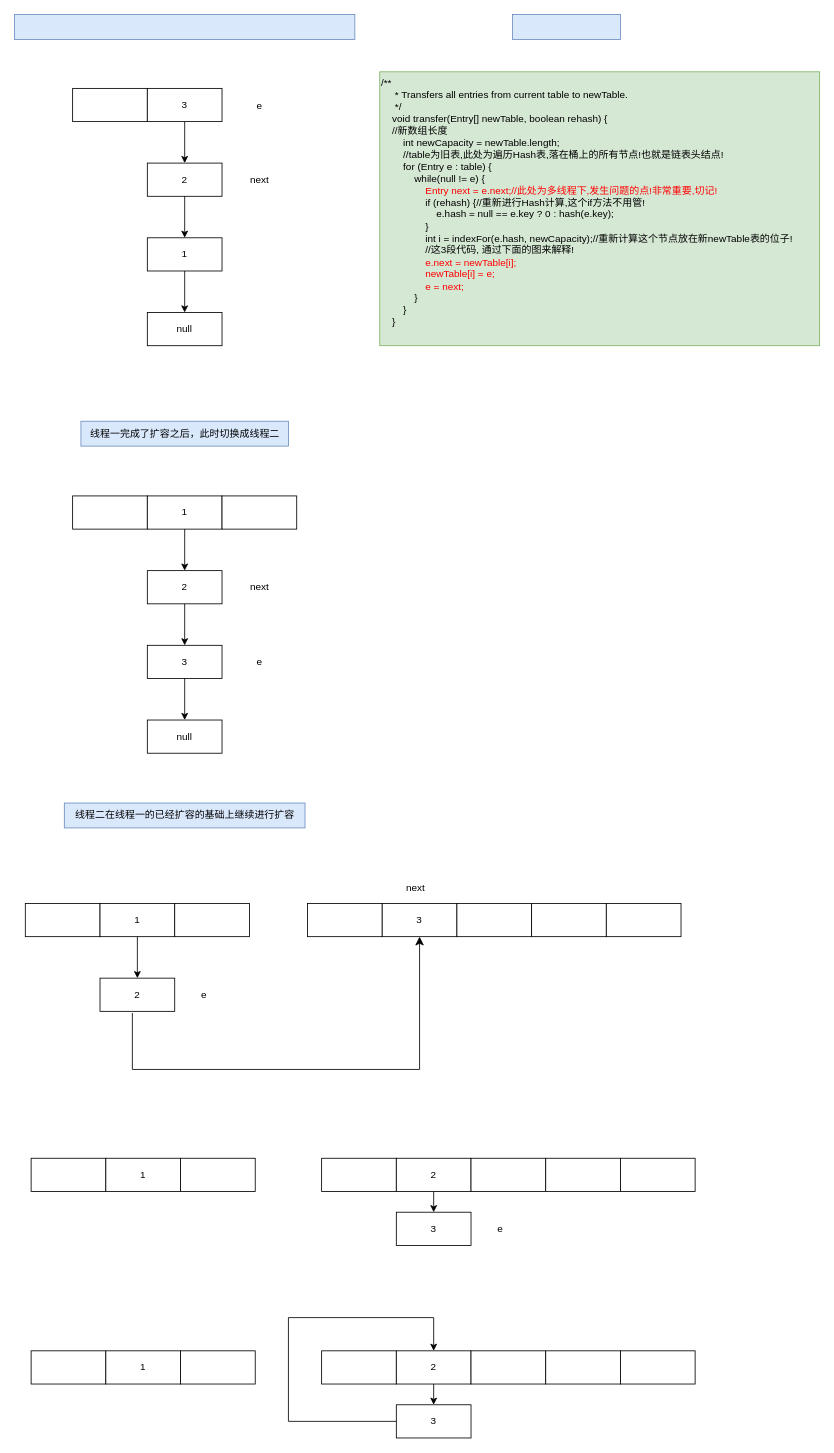
This 834x1453 diagram has some shape labels left out. The centre of each missing label's shape, as x and y in pixels:
"使用头插法进行扩容" belongs at point (566, 26).
"线程一和线程二同时进行扩容，此时线程二被阻塞了，线程1先完成了扩容" belongs at point (184, 26).
